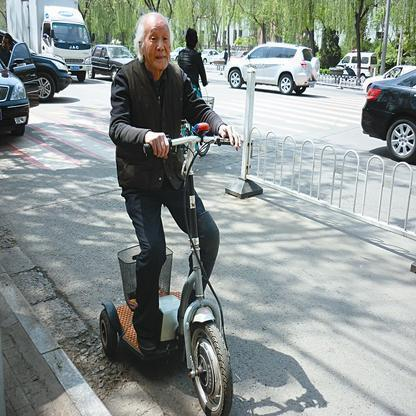target: (97, 10, 244, 410)
